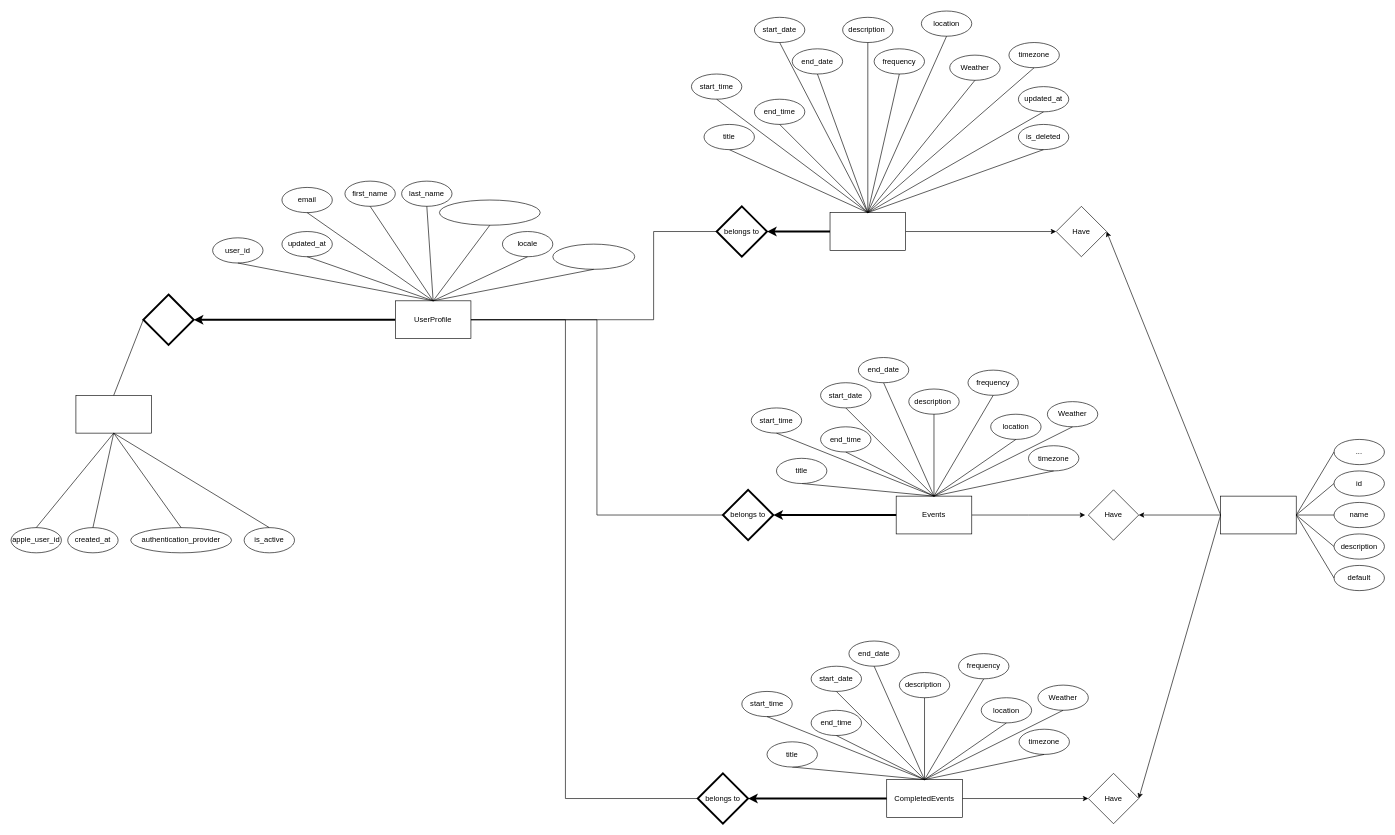
Image size: 1395x835. Some labels were removed from this diagram. The box of each missing label's shape, as (x1, y1, x2, y2) in pixels:
is: (142, 293, 194, 346)
phone_number: (552, 243, 635, 269)
profile_picture_url: (439, 199, 540, 225)
Tags: (1220, 495, 1296, 534)
UpdatedEvents: (829, 212, 906, 250)
User: (75, 395, 152, 433)
